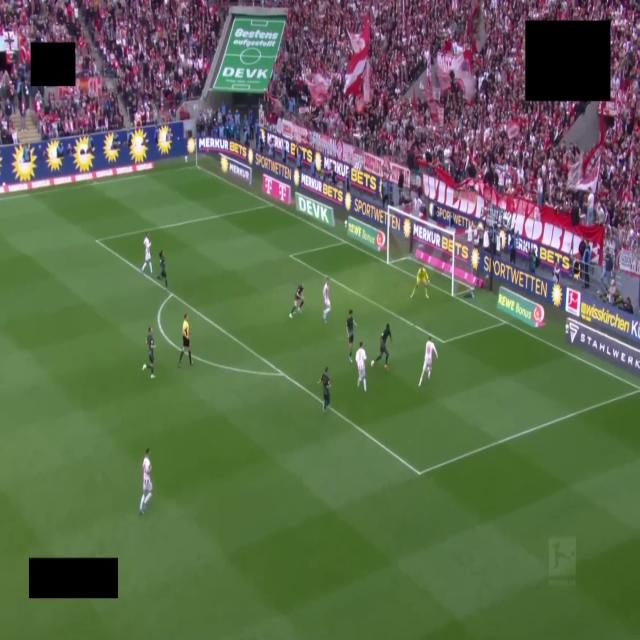player: (372, 324, 392, 369), (419, 337, 437, 385), (140, 448, 152, 514), (143, 327, 154, 378), (346, 310, 356, 362), (411, 267, 428, 297), (356, 342, 366, 392), (319, 367, 330, 412), (290, 283, 304, 318), (141, 233, 152, 273), (157, 251, 167, 288), (323, 278, 330, 322)
referee: (179, 314, 192, 367)
